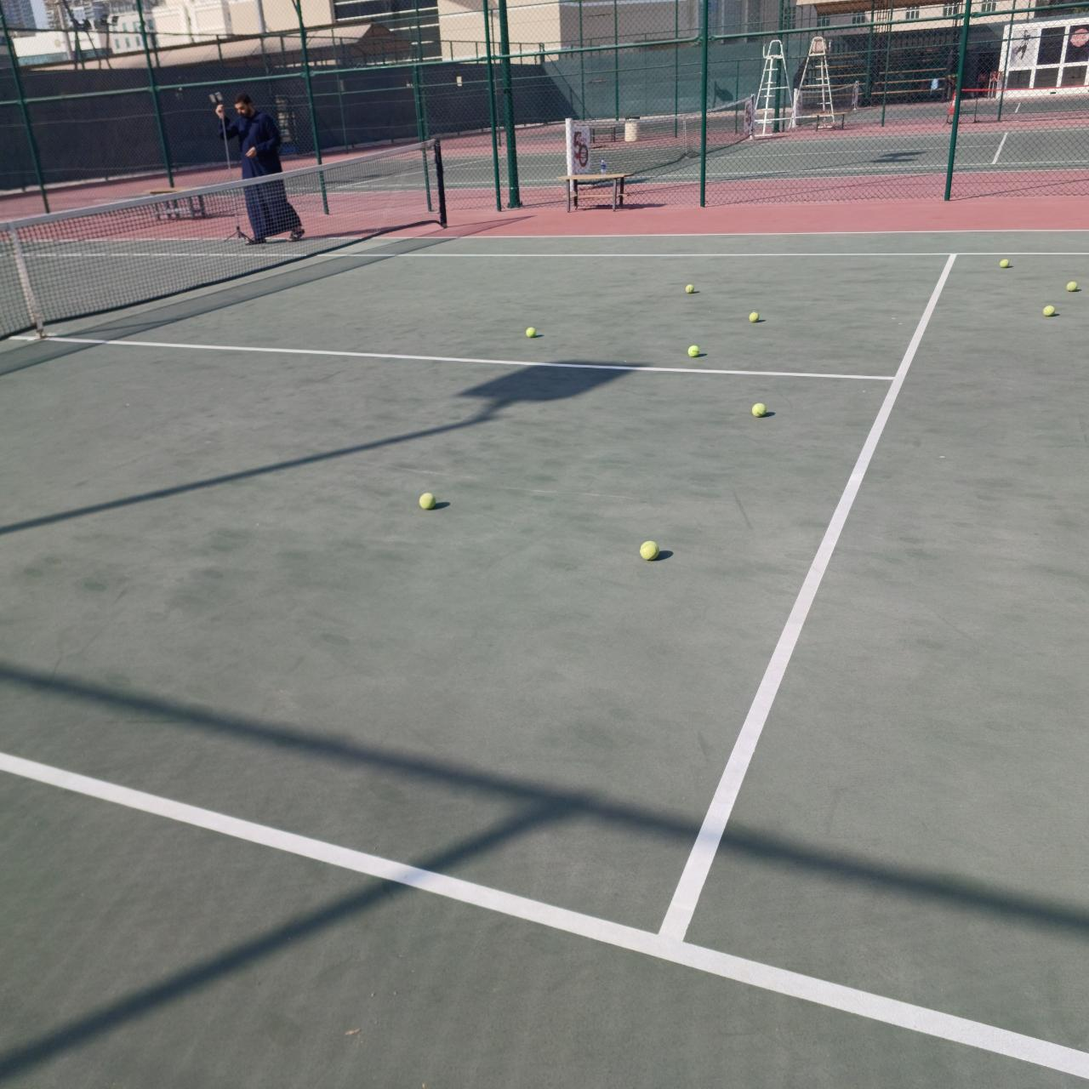tennis-ball: (637, 538, 658, 560), (417, 490, 435, 509), (750, 401, 766, 417), (1041, 303, 1055, 316), (747, 309, 761, 322), (686, 343, 700, 356), (1064, 279, 1078, 291), (998, 256, 1012, 268), (523, 325, 536, 337), (683, 282, 696, 293)
